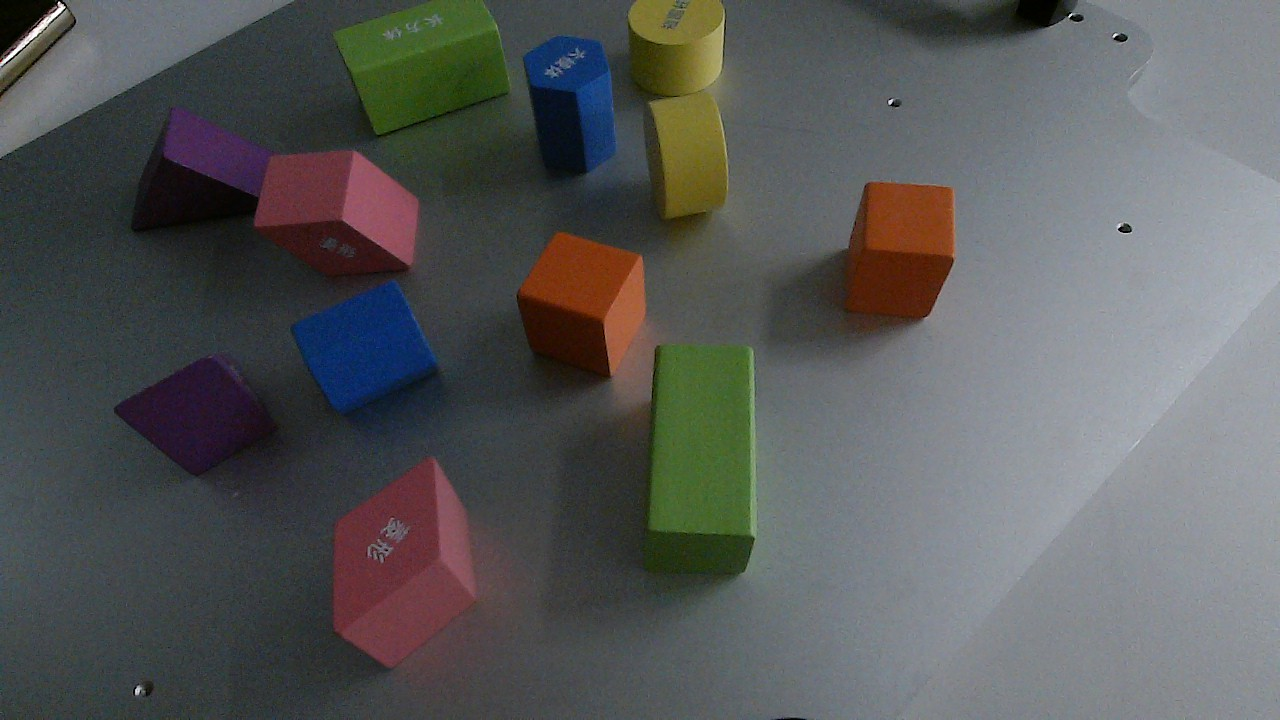circle: (643, 92, 728, 223), (628, 1, 726, 99)
diamond: (330, 456, 472, 675), (253, 147, 421, 281)
hexagon: (292, 281, 436, 417), (526, 34, 616, 177)
rectangle: (332, 1, 512, 141), (645, 344, 753, 571)
square: (519, 230, 651, 380), (841, 178, 958, 324)
triangle: (111, 350, 280, 484), (128, 106, 271, 232)
